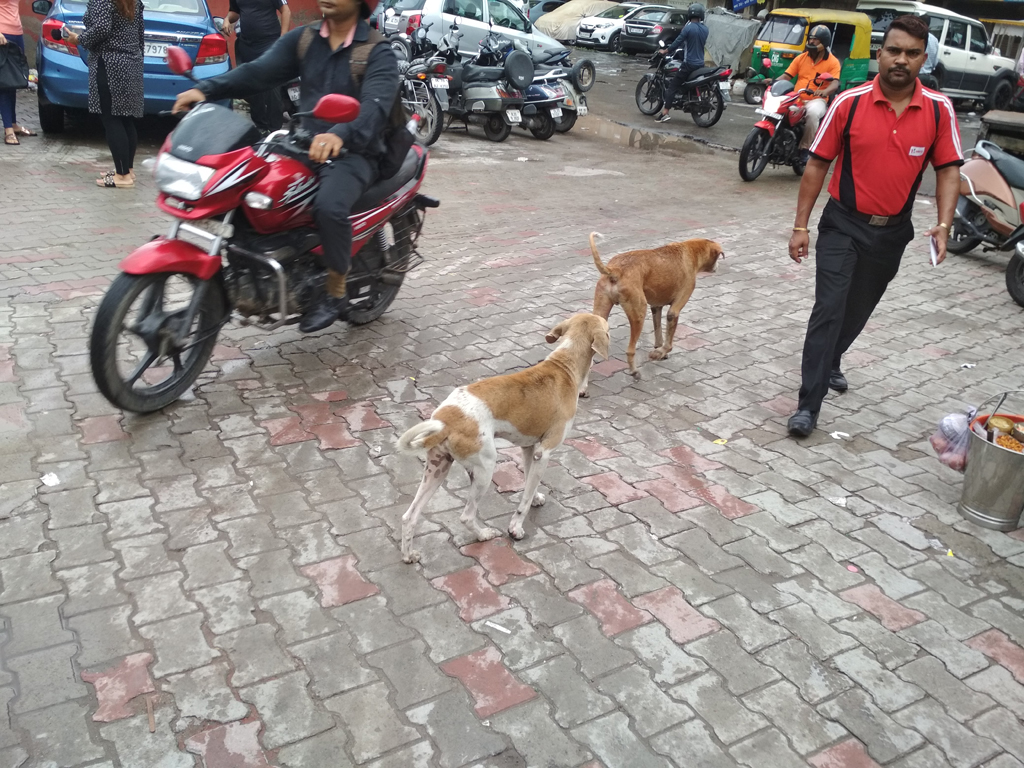dog: (392, 311, 612, 564), (588, 231, 724, 380)
